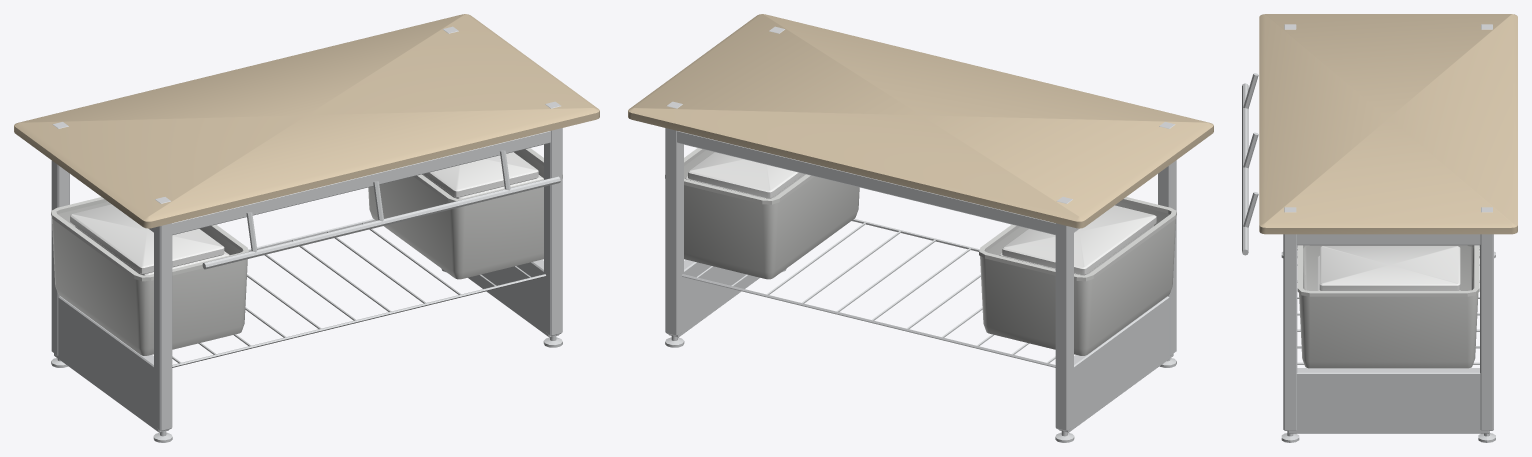
File: laundrette-and-cleaning-folding-table-island-86a76afc__25528.glb
The picture shows the model from 3 angles, left to right: view 1: azimuth 30°, elevation 25°; view 2: azimuth 150°, elevation 25°; view 3: azimuth 270°, elevation 25°; orthographic projection. The views are drawn at different scales.
Visible parts, largest first — view 1: folding-table-island; view 2: folding-table-island; view 3: folding-table-island.
Part boxes in pixels (x1,y1,x2,y2): folding-table-island: [14, 14, 599, 442]; folding-table-island: [628, 14, 1213, 442]; folding-table-island: [1242, 14, 1517, 442].
Size of the model in its own units: 1.8 by 0.9011 by 0.982.
